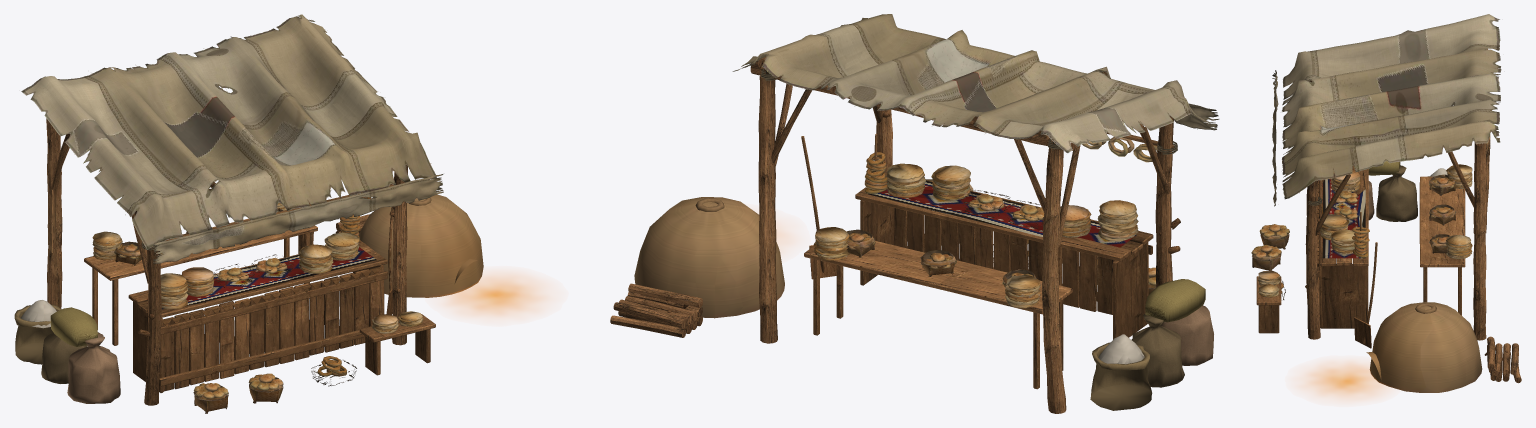
Rendered from village-kiosk-2-v4-lite.glb.
3 renders of one model, left to right at view 1: azimuth 30°, elevation 25°; view 2: azimuth 150°, elevation 25°; view 3: azimuth 270°, elevation 25°, orthographic. The views are drawn at different scales.
Visible parts, largest first — view 1: K2_Cloth, K2_Wood, K2_Props, K2_Bark, K2_Sack, K2_Glow; view 2: K2_Cloth, K2_Props, K2_Wood, K2_Bark, K2_Sack; view 3: K2_Cloth, K2_Props, K2_Wood, K2_Bark, K2_Sack, K2_Glow.
Boxes of the visible parts, bbox=[...] form: K2_Cloth: bbox=[21, 14, 443, 263]; K2_Wood: bbox=[84, 184, 435, 392]; K2_Props: bbox=[21, 194, 483, 413]; K2_Bark: bbox=[46, 118, 407, 405]; K2_Sack: bbox=[14, 304, 120, 403]; K2_Glow: bbox=[447, 275, 544, 316]; K2_Cloth: bbox=[732, 14, 1219, 153]; K2_Props: bbox=[634, 69, 1177, 364]; K2_Wood: bbox=[801, 132, 1174, 389]; K2_Bark: bbox=[610, 57, 1180, 413]; K2_Sack: bbox=[1090, 279, 1213, 410]; K2_Cloth: bbox=[1272, 14, 1501, 206]; K2_Props: bbox=[1251, 140, 1482, 392]; K2_Wood: bbox=[1256, 165, 1465, 348]; K2_Bark: bbox=[1305, 49, 1521, 383]; K2_Sack: bbox=[1368, 161, 1429, 221]; K2_Glow: bbox=[1304, 362, 1385, 398].
Bounding box in the file's own units: 6.02 × 2.9 × 3.27.
7 materials, 7 textured.
